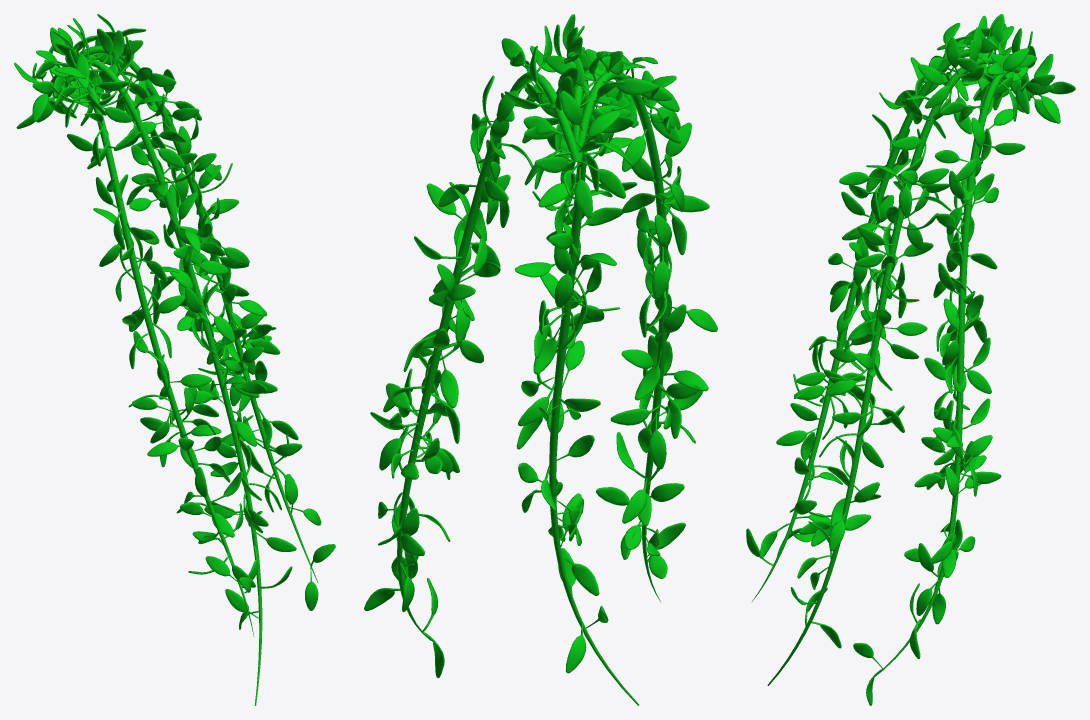
Rendered from heavyPlants.glb.
The picture shows the model from 3 angles, left to right: view 1: azimuth 30°, elevation 25°; view 2: azimuth 150°, elevation 25°; view 3: azimuth 270°, elevation 25°; orthographic projection. The views are drawn at different scales.
Parts seen in each view (by area): view 1: NurbsPath.001; view 2: NurbsPath.001; view 3: NurbsPath.001.
Boxes of the visible parts, x1=… form: NurbsPath.001: x1=14, y1=14, x2=335, y2=705; NurbsPath.001: x1=364, y1=14, x2=717, y2=705; NurbsPath.001: x1=746, y1=14, x2=1075, y2=705.
Bounding box in the file's own units: 0.5604 × 1.3 × 0.6097.
